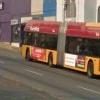Bus: (15, 15, 97, 76)
